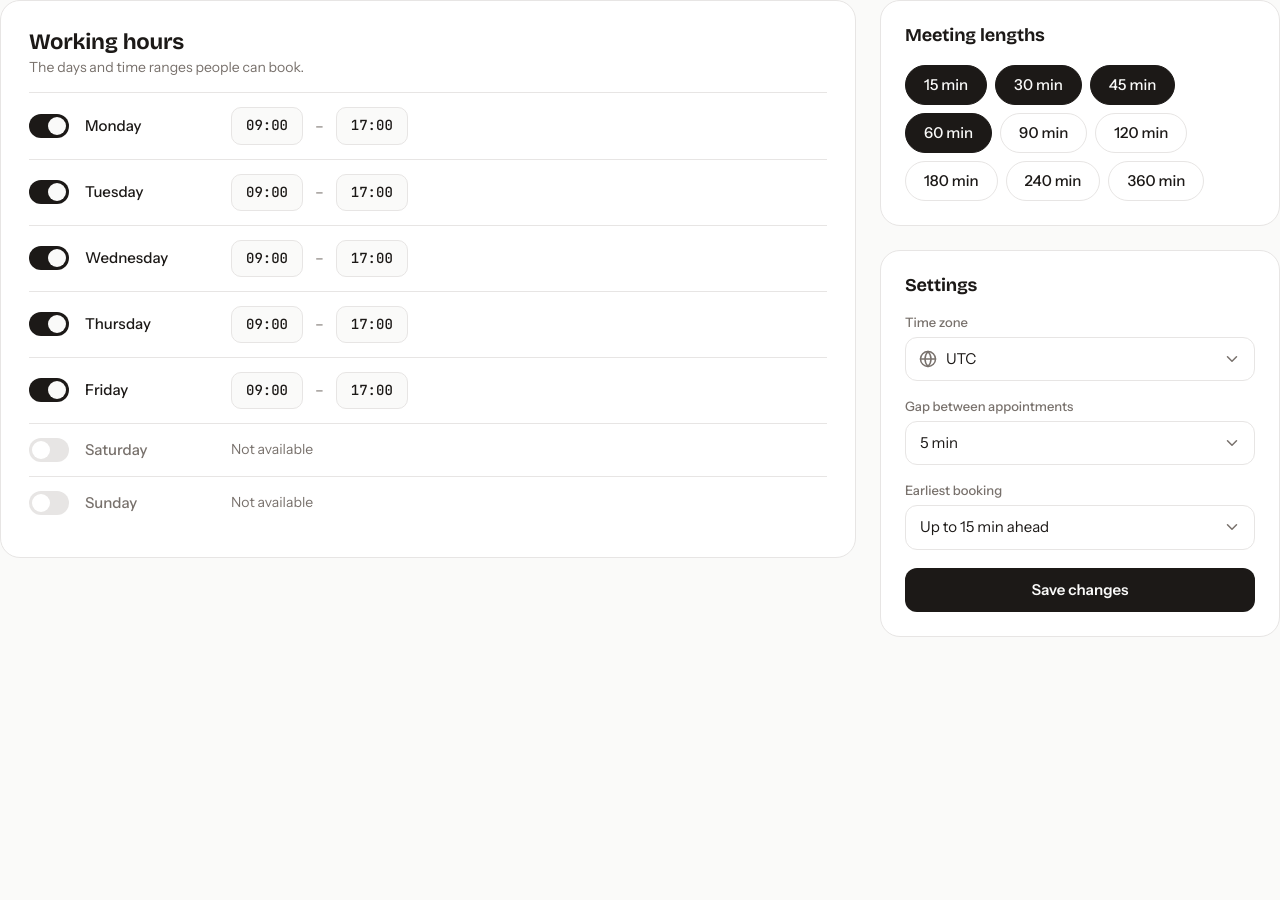
Test: WorkingHoursForm › saves locally and says so when no signer is available
This screenshot has width=1280, height=900.
Click the switch named "Saturday available": (49, 450) [29, 438, 69, 462]
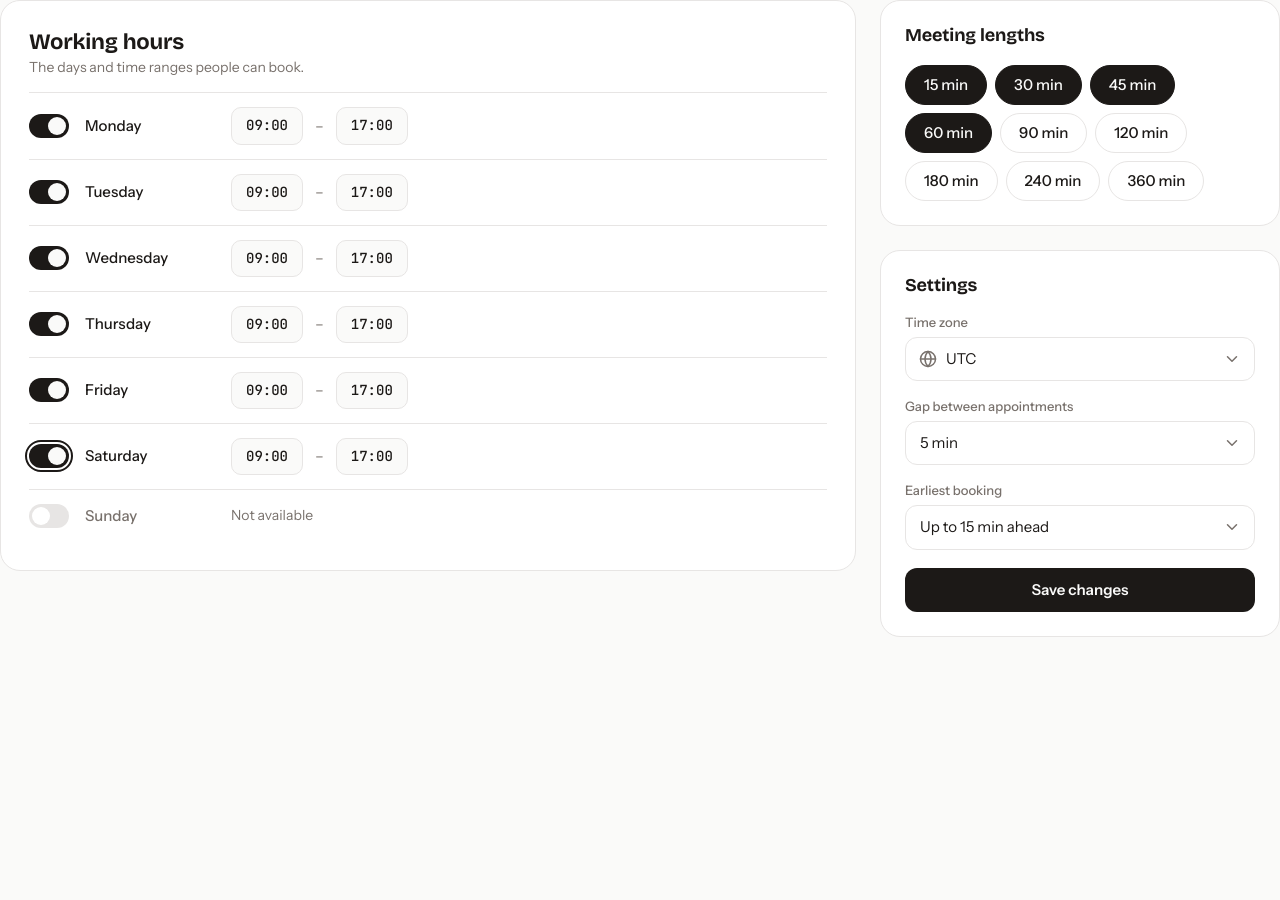
Click the button "Save changes": (1080, 590) [905, 568, 1255, 612]
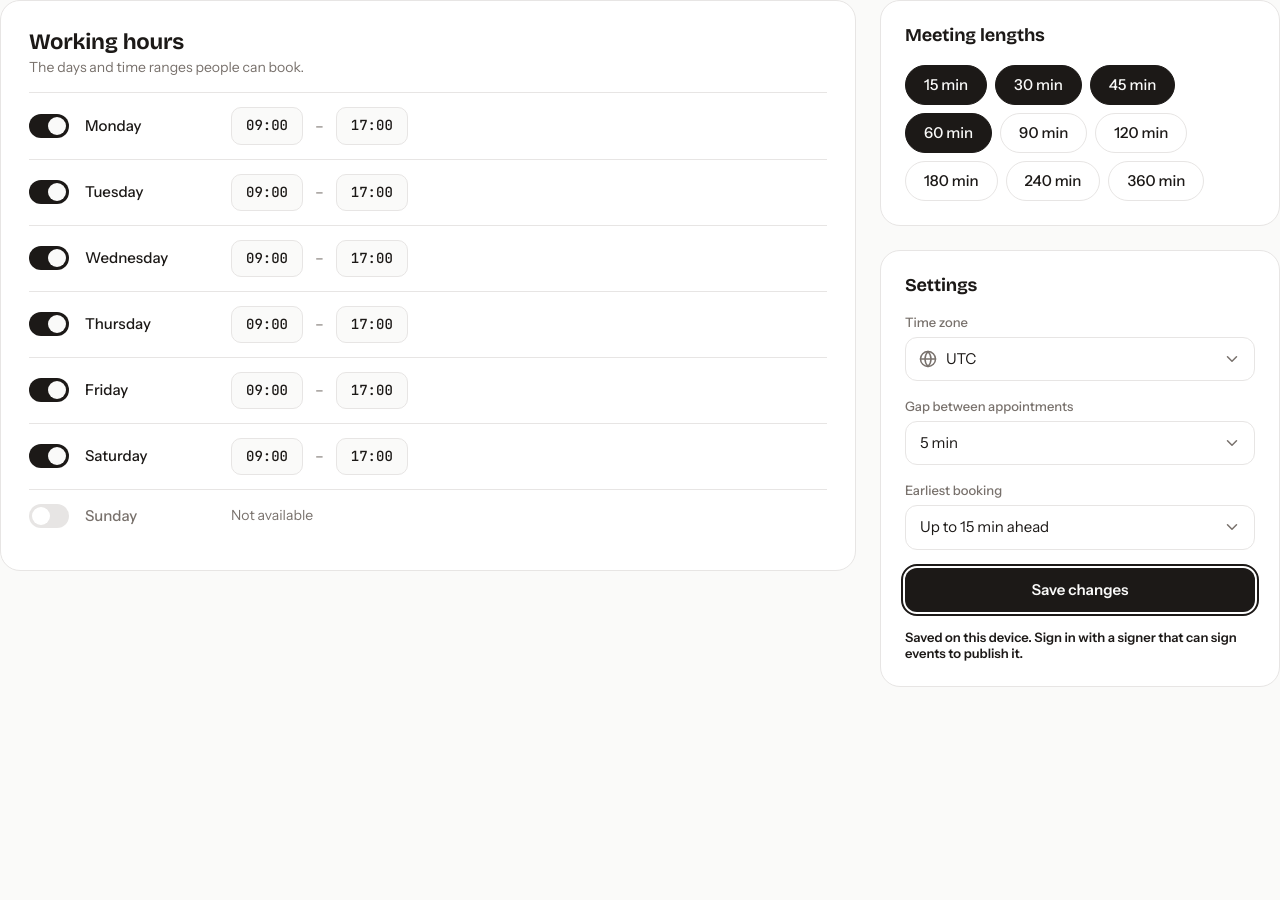
expect the text "Saved on this device" is shown: met, box [905, 629, 1237, 661]
